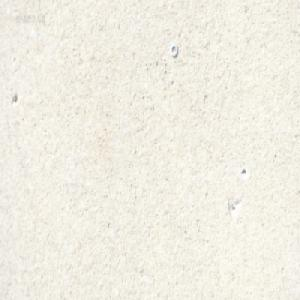Washer: (170, 42, 177, 57)
